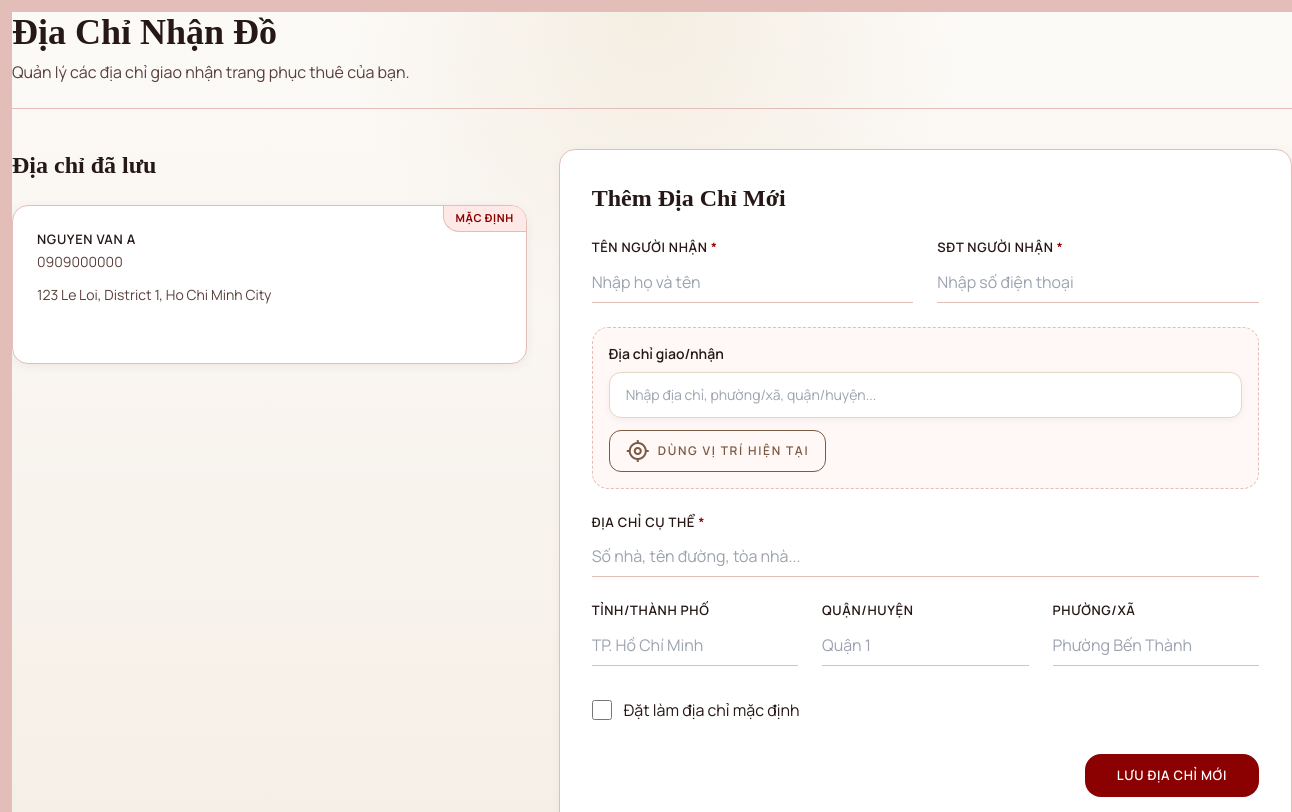
Test: CustomerAddressesPage › loads the address book and creates a new default address
Expected: the text "123 Le Loi, District 1, Ho Chi Minh City" is shown, x1=37 y1=284 x2=272 y2=304
In the field labelled "Tên người nhận *": [753, 282] box x1=592 y1=262 x2=913 y2=302, type "Kha Tran"
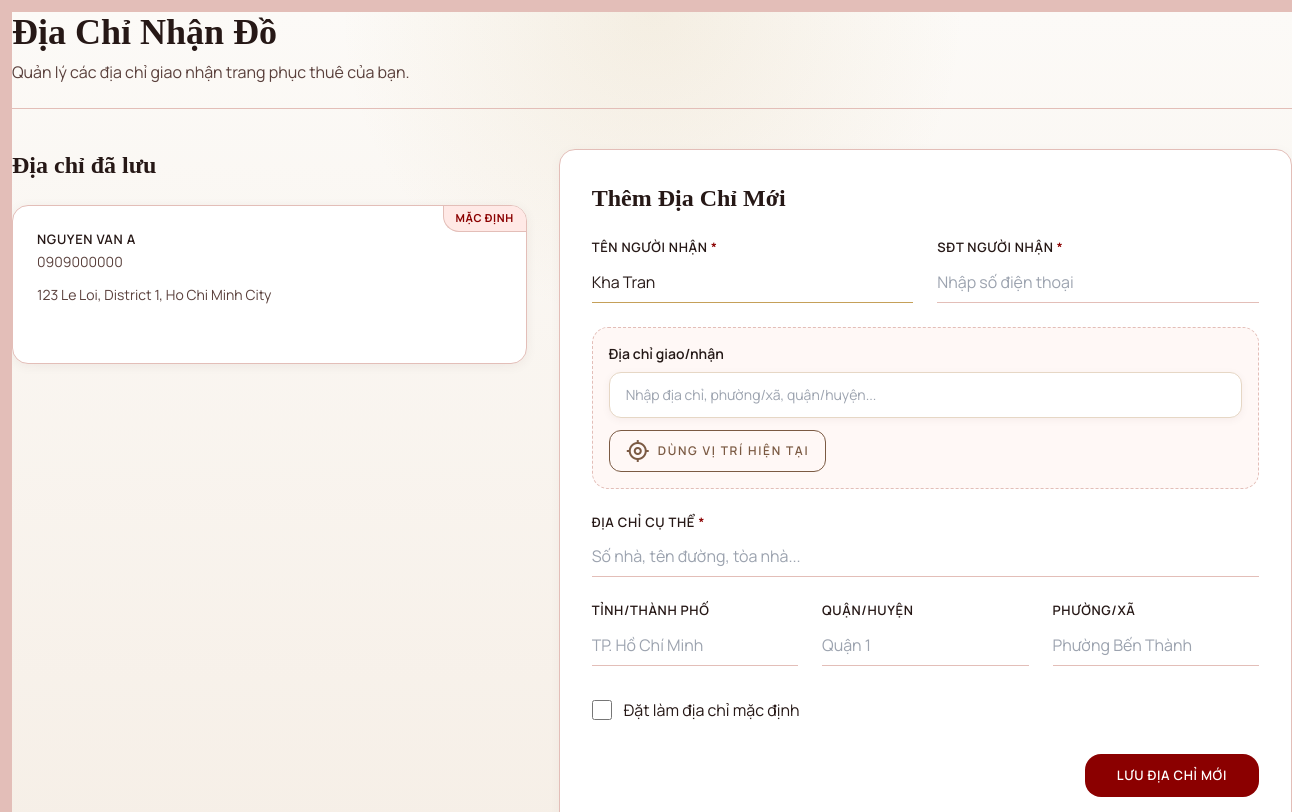
In the field labelled "SĐT người nhận *": [1098, 282] box x1=937 y1=262 x2=1259 y2=302, type "0911222333"
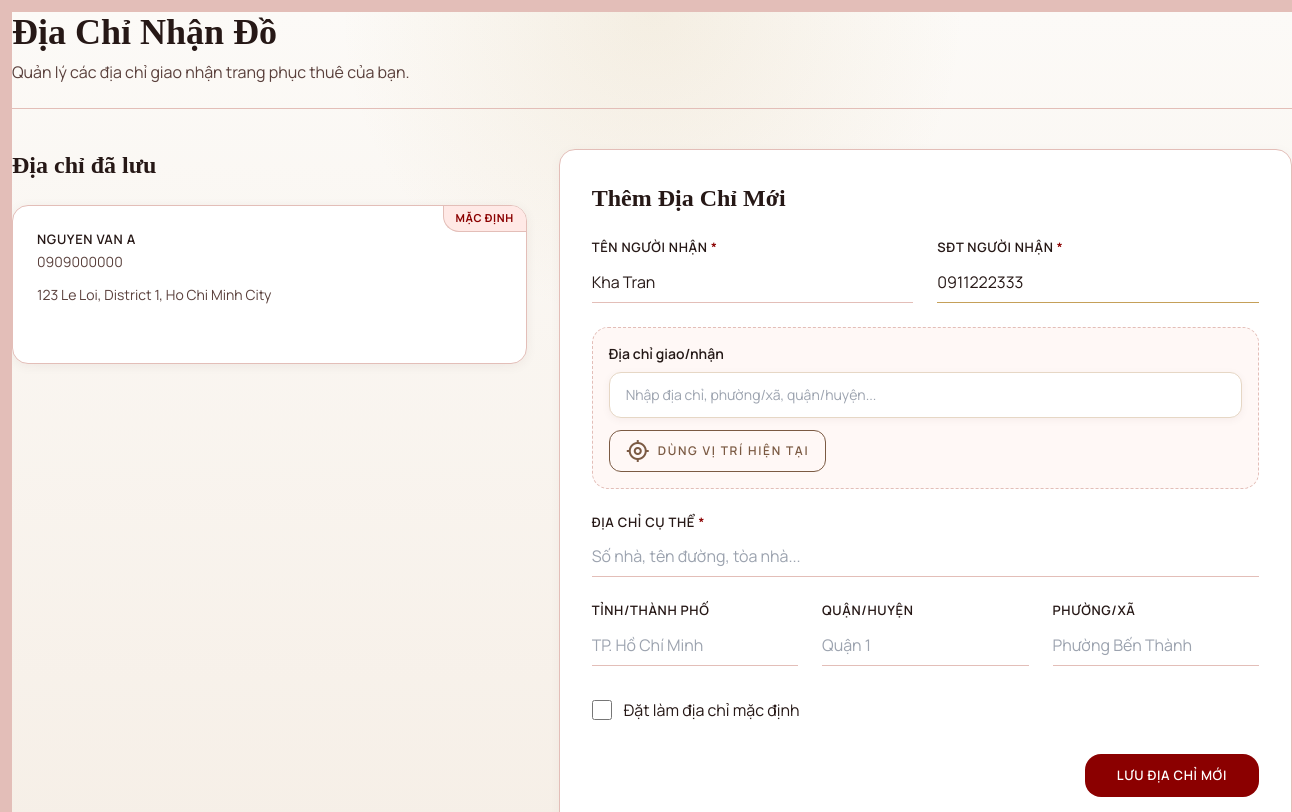
In the field labelled "Địa chỉ cụ thể *": [925, 556] box x1=592 y1=536 x2=1259 y2=577, type "456 Nguyen Hue"
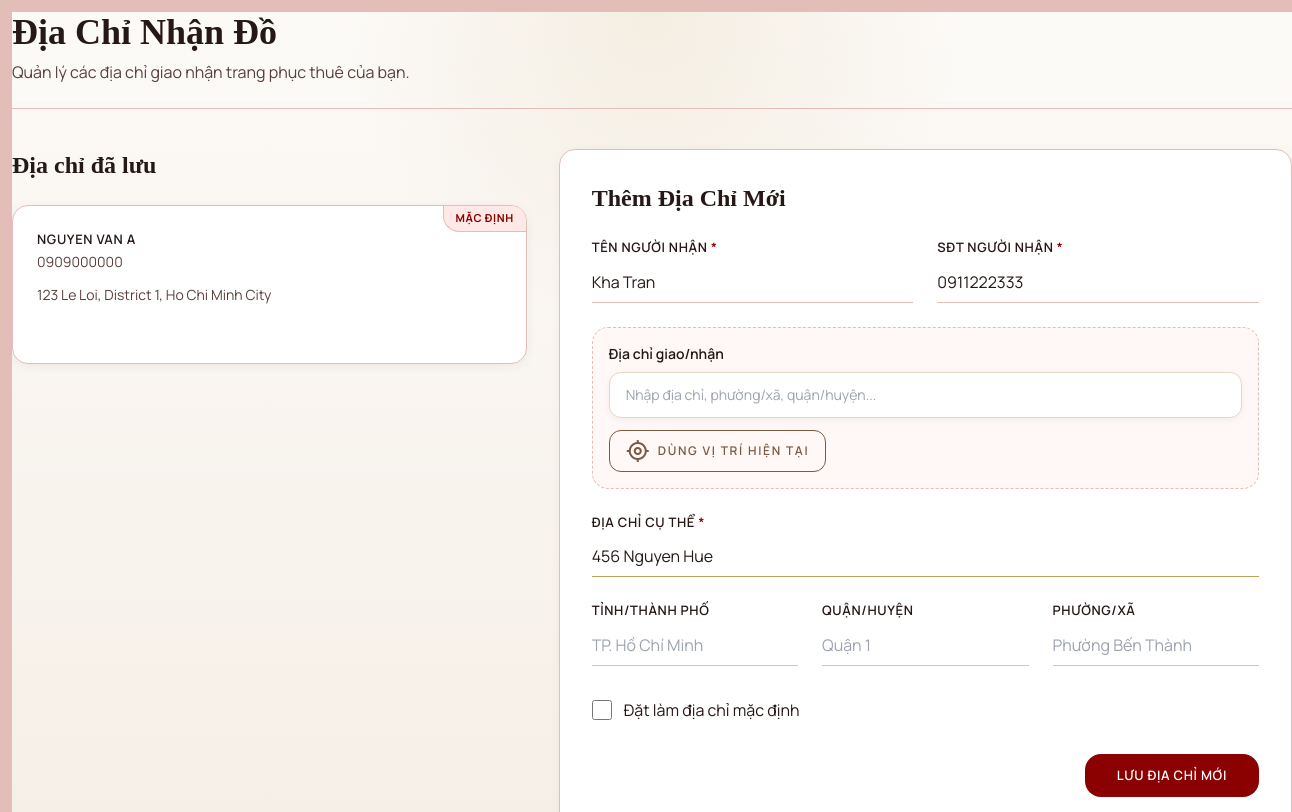
In the field labelled "Tỉnh/Thành phố": [695, 645] box x1=592 y1=624 x2=798 y2=666, type "Ho Chi Minh City"
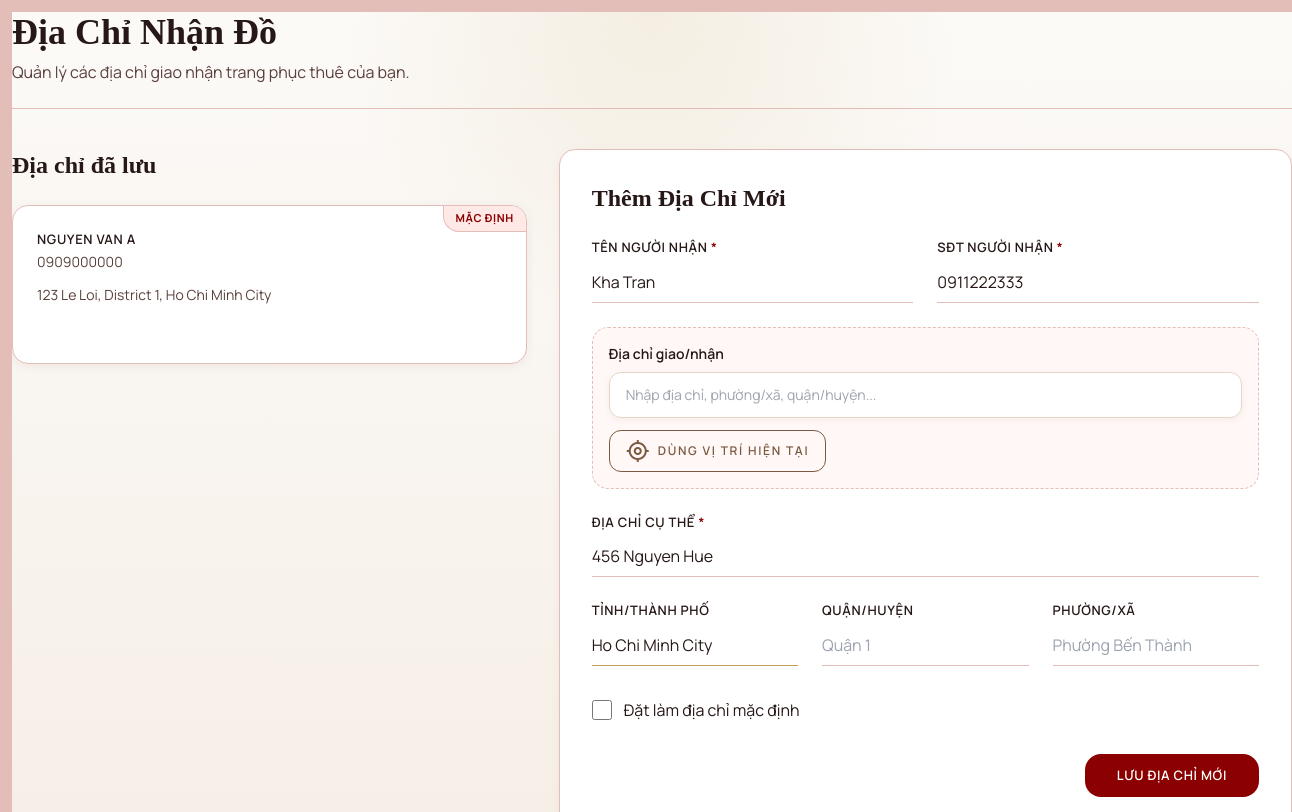
Click the button "Lưu địa chỉ mới": [1172, 775] box x1=1085 y1=754 x2=1259 y2=797
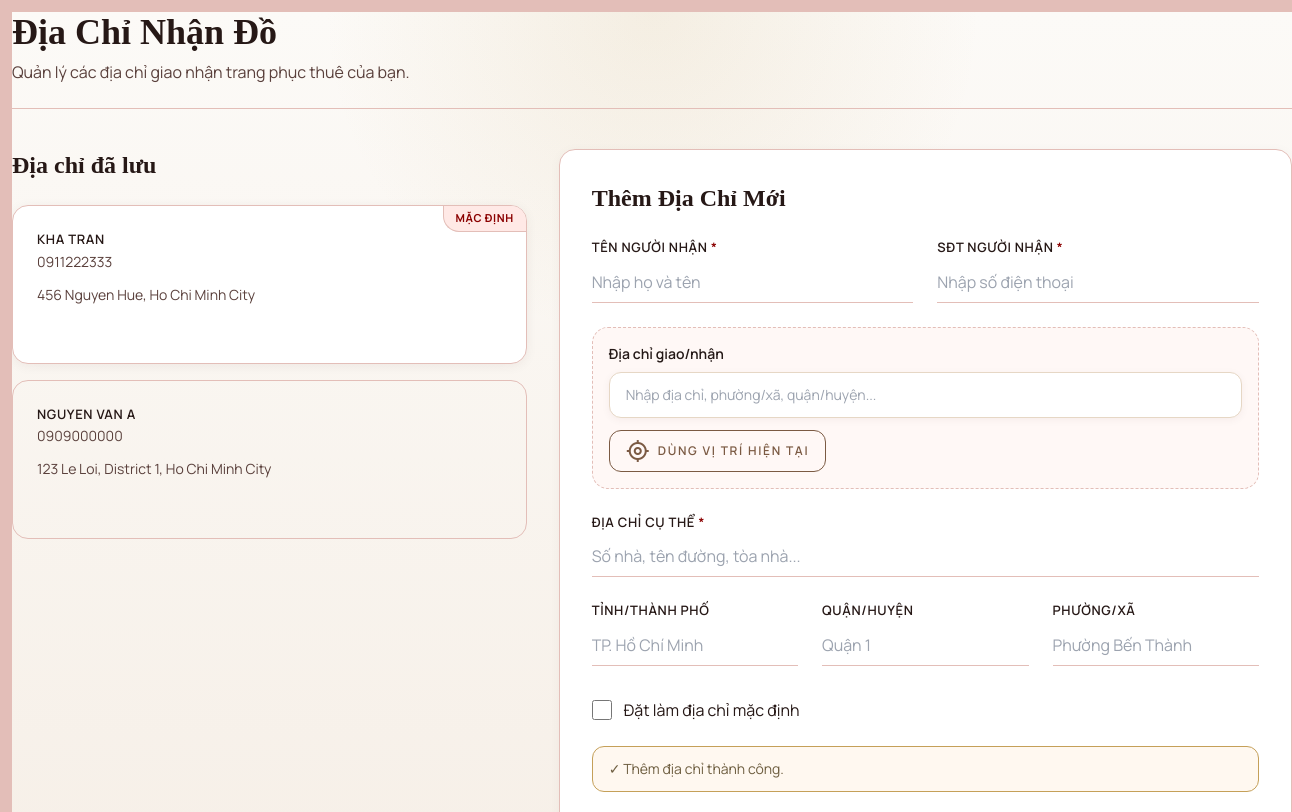
Now the text "456 Nguyen Hue, Ho Chi Minh City" is shown, box x1=37 y1=284 x2=255 y2=304
Now the text "✓ Thêm địa chỉ thành công." is shown, box x1=592 y1=746 x2=1259 y2=792
